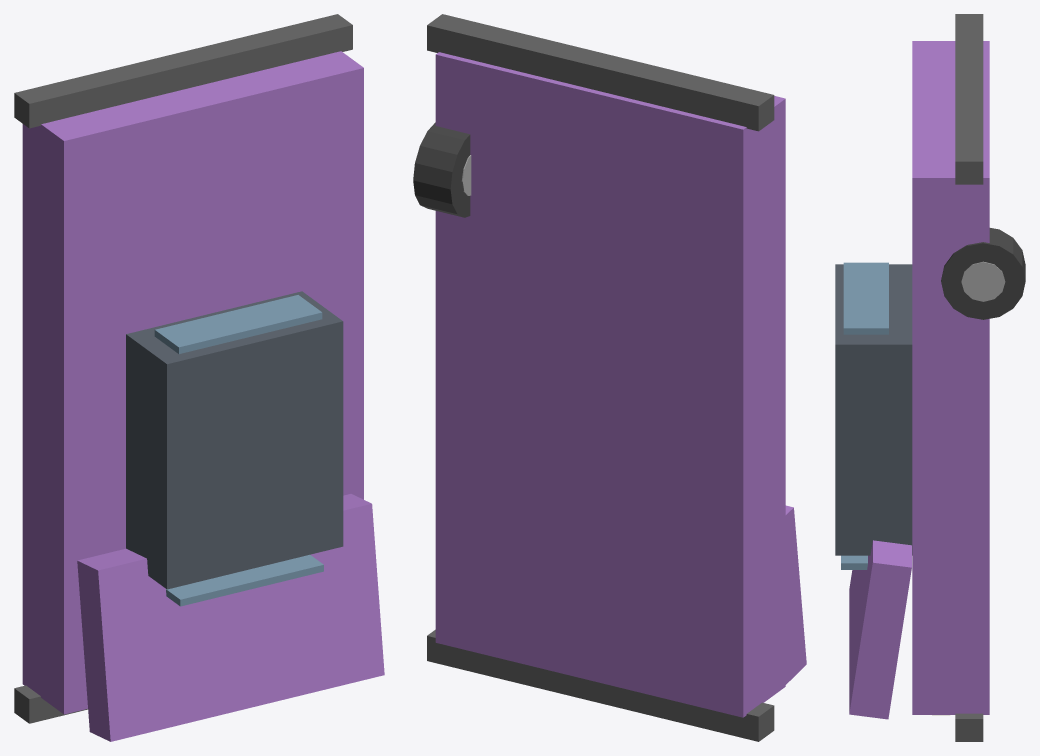
The model's file is vehicle_purple_coupe.glb.
3 renders of one model, left to right at view 1: azimuth 30°, elevation 25°; view 2: azimuth 150°, elevation 25°; view 3: azimuth 270°, elevation 25°, orthographic. The views are drawn at different scales.
Parts seen in each view (by area): view 1: body, dark_cabin, front_wedge, rear_bumper, rear_window, front_window, front_bumper; view 2: body, rear_bumper, front_bumper, wheel_tire, front_wedge; view 3: body, dark_cabin, front_wedge, rear_bumper, wheel_tire, rear_window, wheel_hub, front_bumper, front_window.
Boxes of the visible parts, x1,y1,x2,y2 form: body: (22,51,363,714); dark_cabin: (126,291,343,589); front_wedge: (77,494,384,741); rear_bumper: (14,14,352,128); rear_window: (154,295,322,353); front_window: (166,554,323,606); front_bumper: (14,685,87,723); body: (435,52,785,717); rear_bumper: (427,14,774,131); front_bumper: (427,629,774,741); wheel_tire: (413,122,470,217); front_wedge: (785,505,806,684); body: (912,41,989,714); dark_cabin: (835,264,912,555); front_wedge: (849,540,911,719); rear_bumper: (955,14,983,184); wheel_tire: (941,228,1025,319); rear_window: (843,262,888,334); wheel_hub: (961,261,1005,301); front_bumper: (955,713,983,741); front_window: (841,555,867,569).
Bounding box in the file's own units: 2.48 × 4.56 × 1.35.
